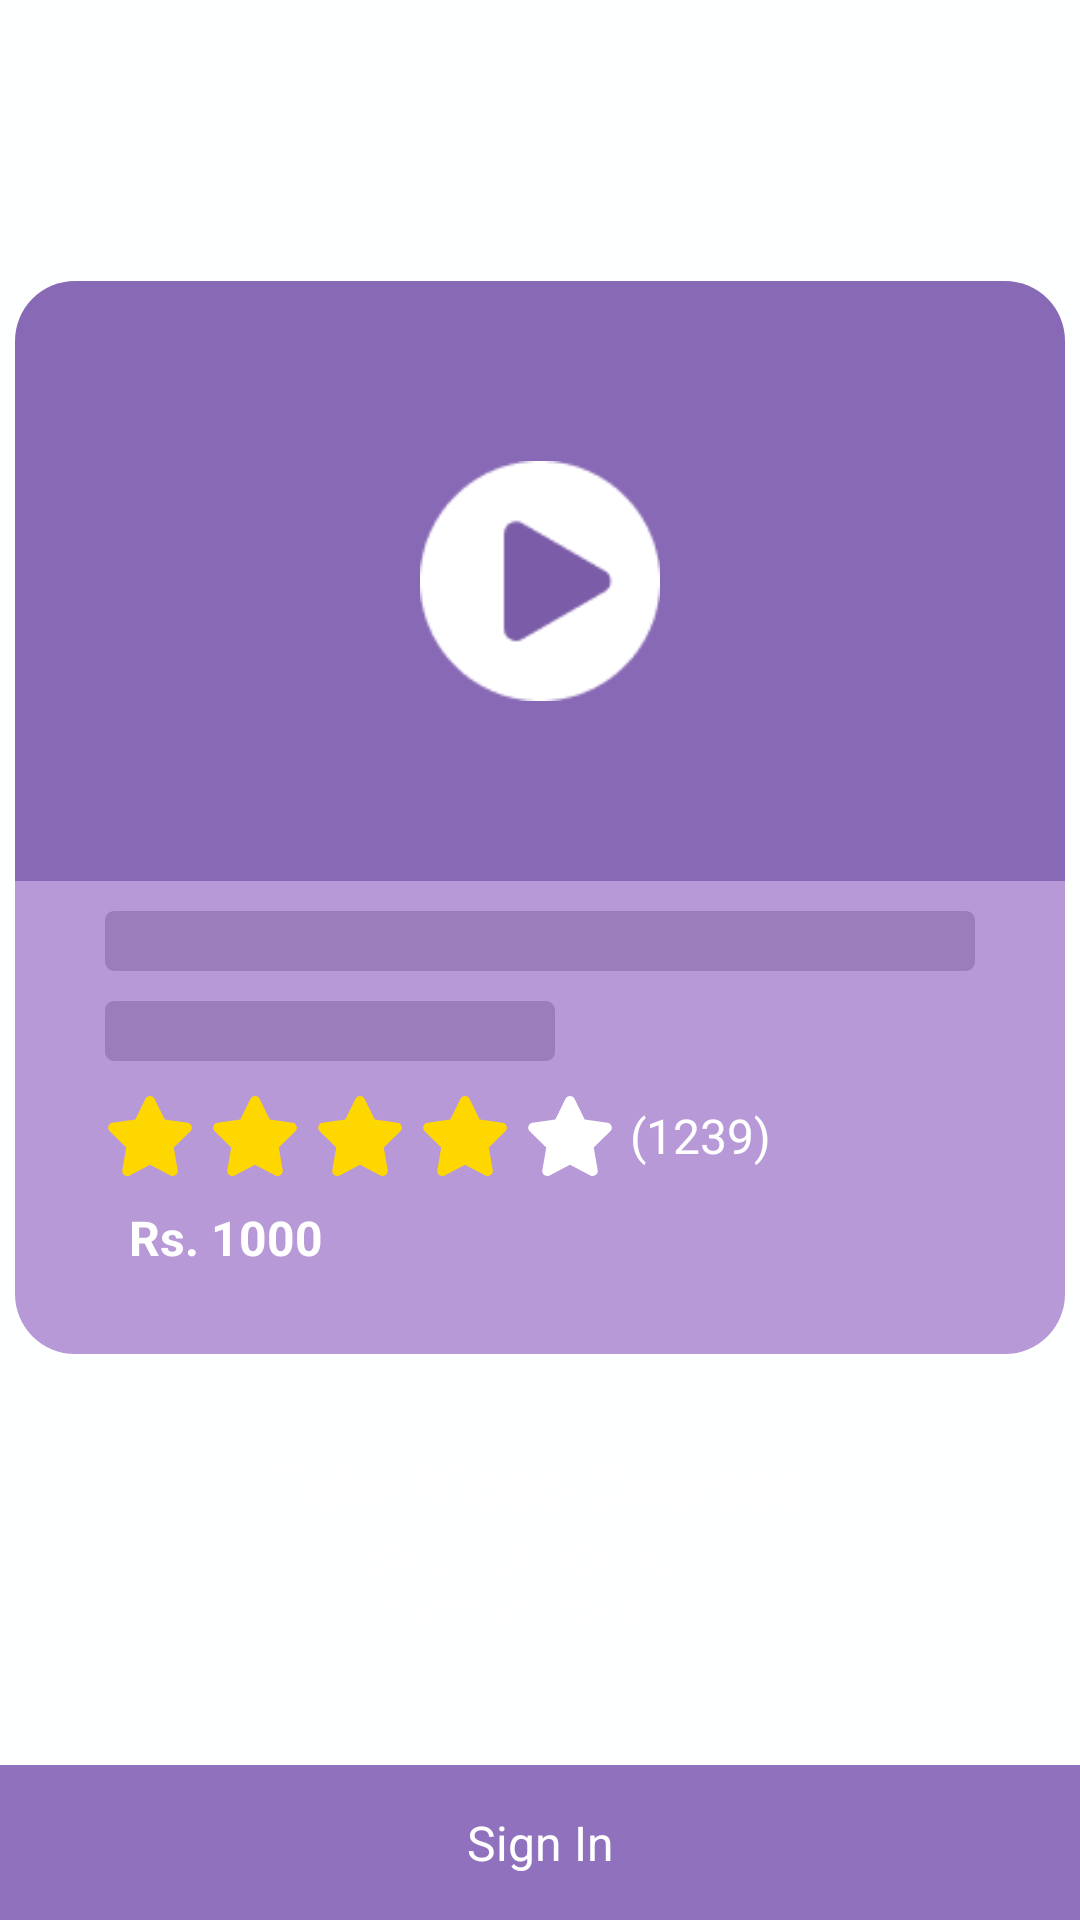

Screen size 1080×1920. Icon name, then its center in pixels as (x,y):
star: (150,1136), (255,1136), (360,1136), (465,1136), (570,1136)
